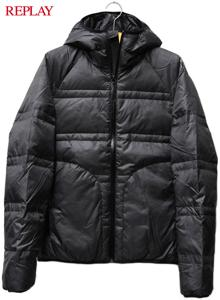C_jacket: (3, 8, 213, 300)
